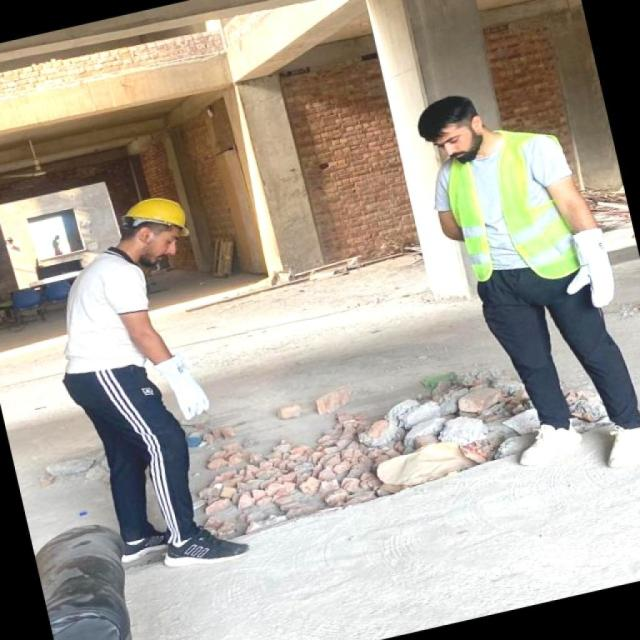Gloves-Detection: (557, 236, 620, 317), (151, 352, 217, 418)
